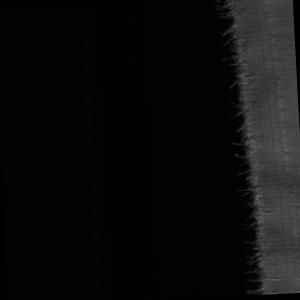Damage: (213, 1, 296, 297)
